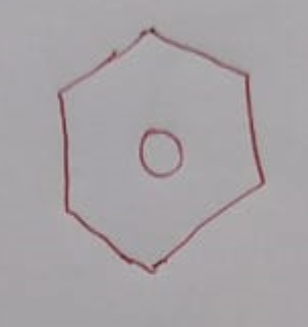shape_mask: (46, 15, 282, 288)
